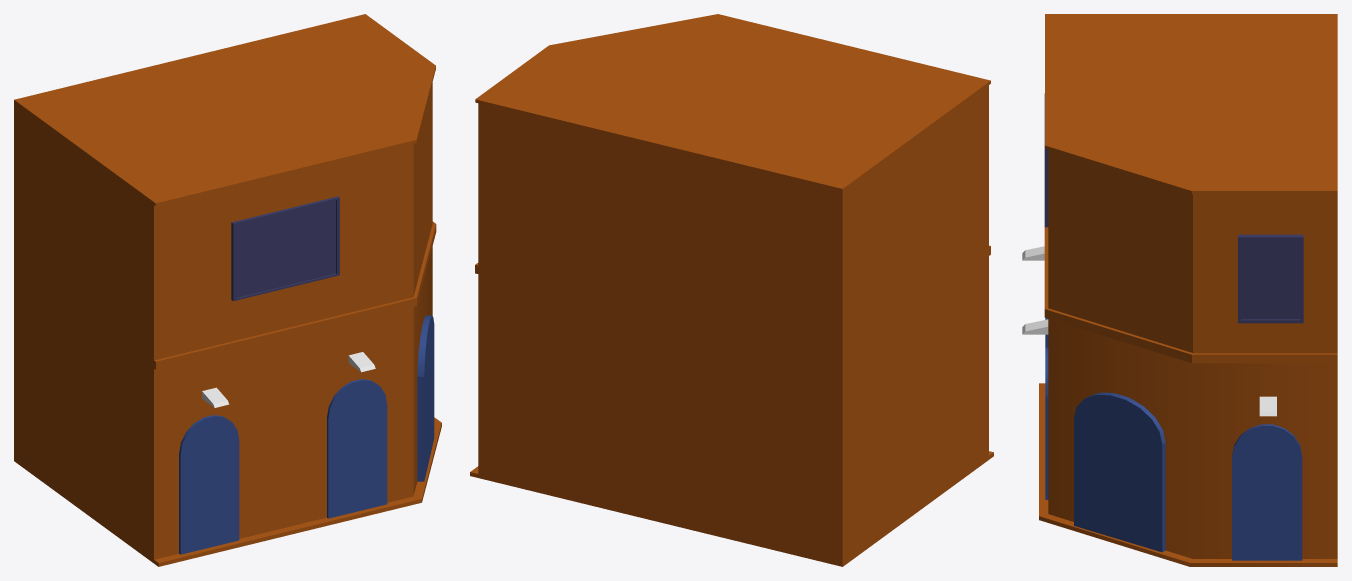
File: fond_du_decor_maison_4.fbx
3 renders of one model, left to right at view 1: azimuth 30°, elevation 25°; view 2: azimuth 150°, elevation 25°; view 3: azimuth 270°, elevation 25°, orthographic. The views are drawn at different scales.
Parts seen in each view (by area): view 1: Box001, Box002, Cylinder002, Cylinder001, Cylinder004; view 2: Box001; view 3: Box001, Cylinder004, Cylinder003, Box003, Cylinder002, Box002.
Boxes of the visible parts, x1,y1,x2,y2 form: Box001: [14, 14, 441, 566]; Box002: [231, 196, 339, 301]; Cylinder002: [327, 379, 387, 518]; Cylinder001: [179, 415, 239, 554]; Cylinder004: [417, 315, 434, 481]; Box001: [470, 14, 993, 566]; Box001: [1039, 14, 1337, 566]; Cylinder004: [1074, 392, 1165, 552]; Cylinder003: [1232, 424, 1302, 560]; Box003: [1238, 234, 1303, 323]; Cylinder002: [1045, 347, 1048, 499]; Box002: [1044, 93, 1048, 227].
Bounding box in the file's own units: 199 × 185 × 142.
